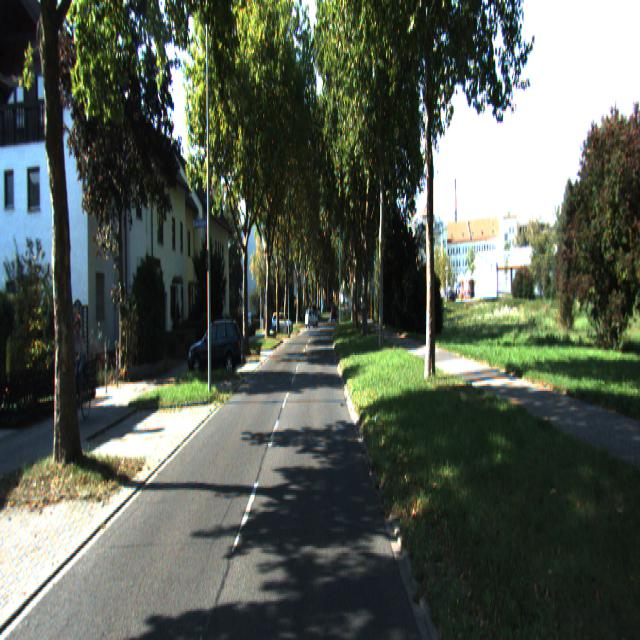Car: (187, 313, 243, 375)
